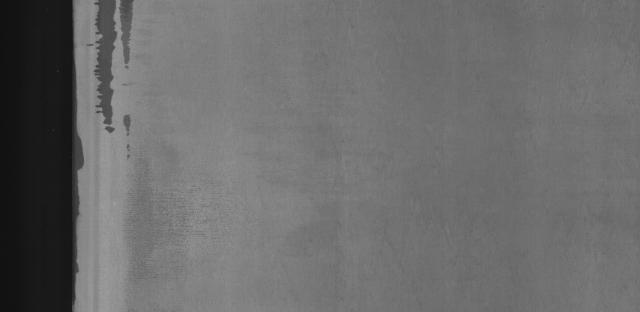oil_spot: (90, 0, 151, 154)
